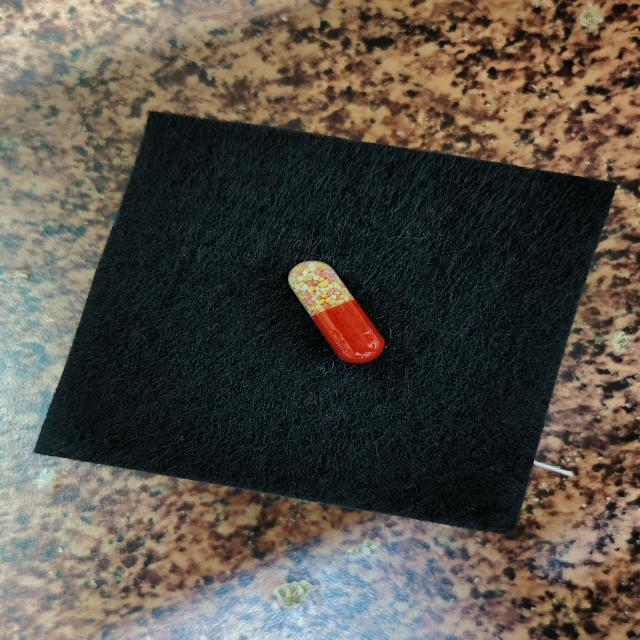Intact Capsule: (288, 260, 385, 363)
